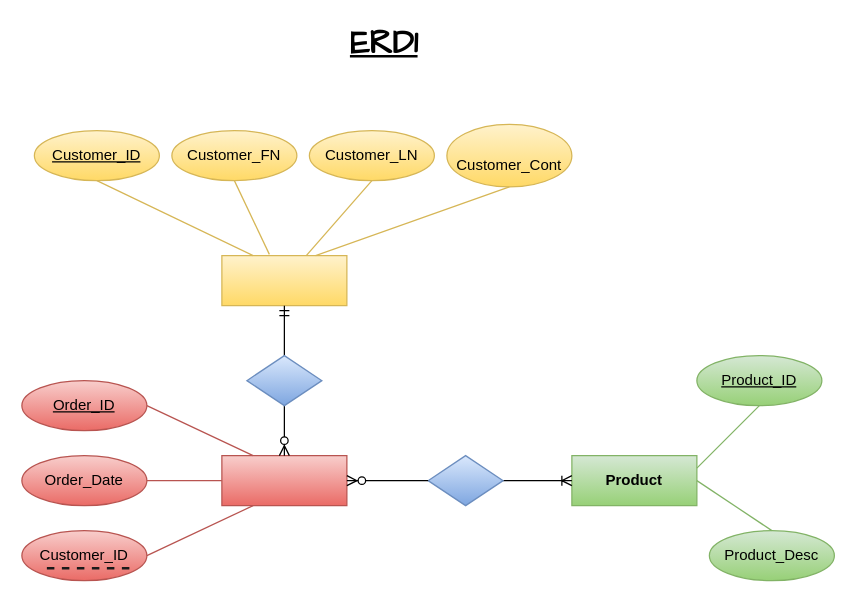
The diagram is 856 pixels wide and 603 high, and some of its shapes have lost their labels. Here are the shapes that lost their labels. From the top down, the box of each, then its label:
(221, 254, 347, 306): Customer
(246, 354, 322, 406): Submits
(221, 454, 347, 506): Order
(427, 454, 503, 506): lists
